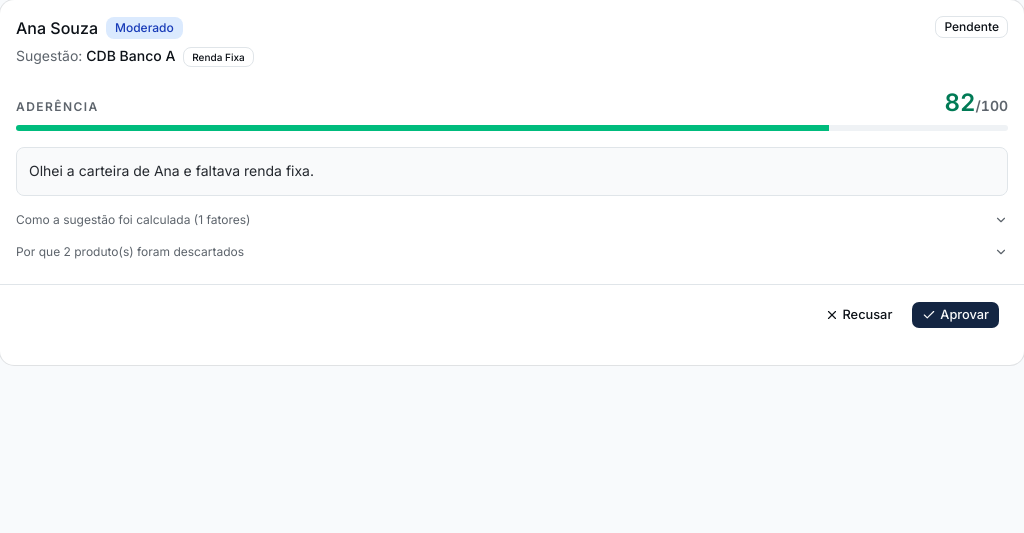
it: RecomendacaoCard › explica os fatores e os descartes sob demanda (aria-expanded)
Click the button "Como a sugestão foi calculada (1 fatores)" at (107, 220), box [16,212,1008,228]
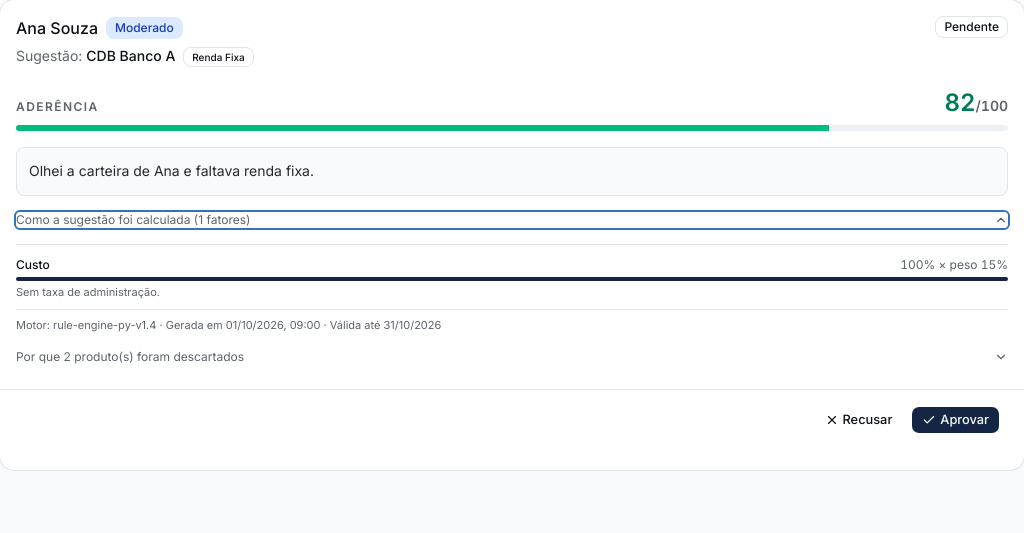
Expected: the button "Como a sugestão foi calculada (1 fatores)" is expanded, [16,212,1008,228]
Expected: the text "Sem taxa de administração." is shown, [16,285,160,299]
Click the button "Por que 2 produto(s) foram descartados" at (40, 357), box [16,349,1008,365]
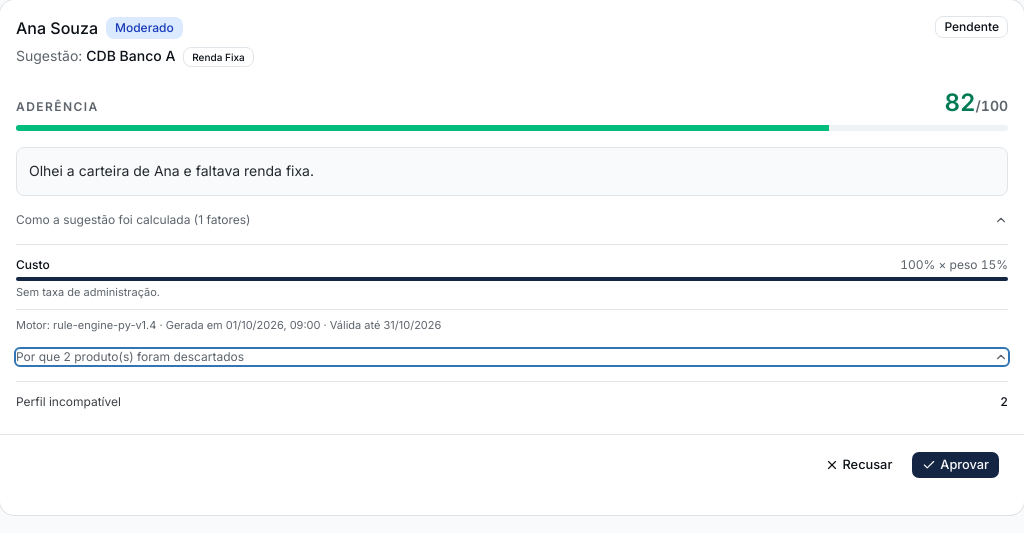
Expected: the text "Perfil incompatível" is shown, [16,394,121,410]
